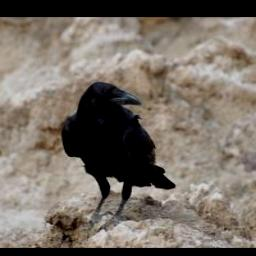Crow: (63, 80, 177, 229)
